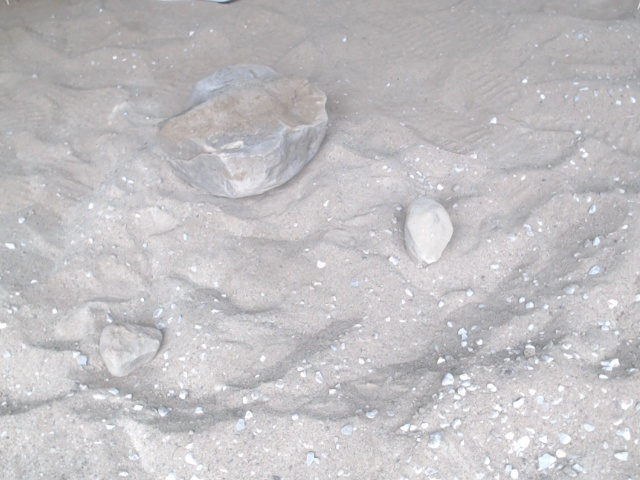rock: (152, 58, 333, 203), (398, 191, 456, 273), (95, 318, 167, 383)
